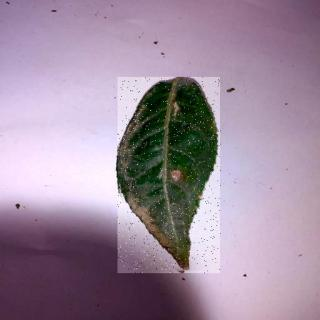Anthracnose: (119, 78, 222, 274)
